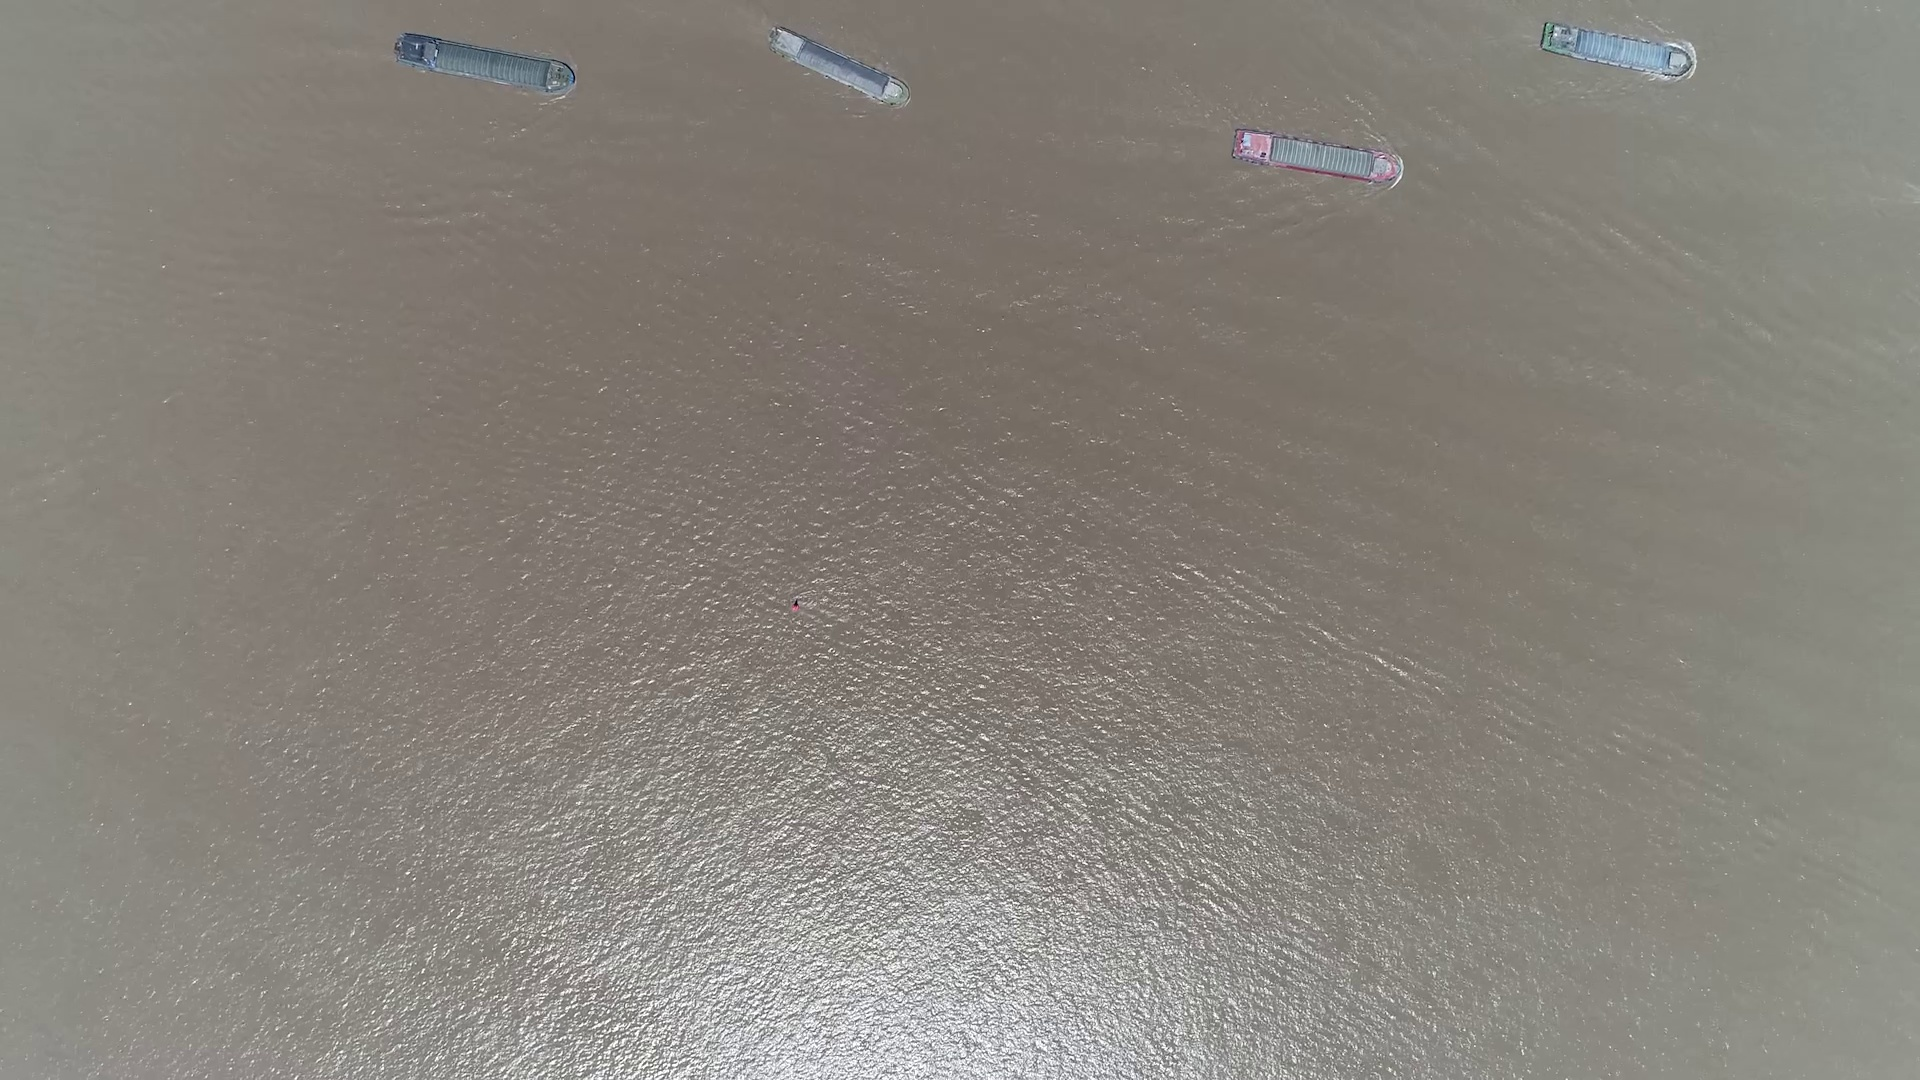ship: (390, 32, 576, 98), (764, 28, 906, 109), (1230, 131, 1400, 185), (1534, 24, 1695, 78)
